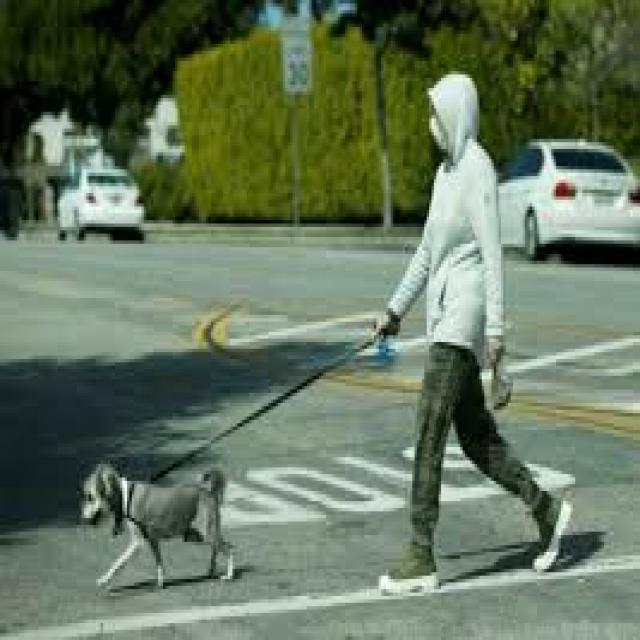good: (78, 448, 252, 591)
